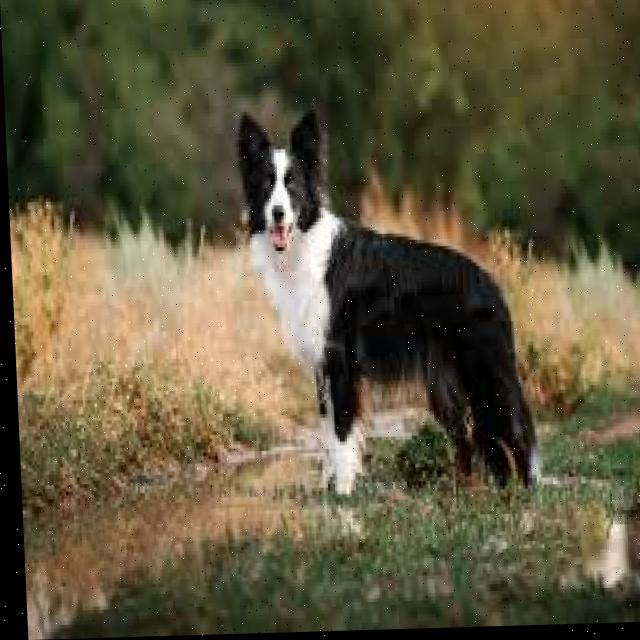BORDER_COLLIE: (228, 109, 537, 515)
